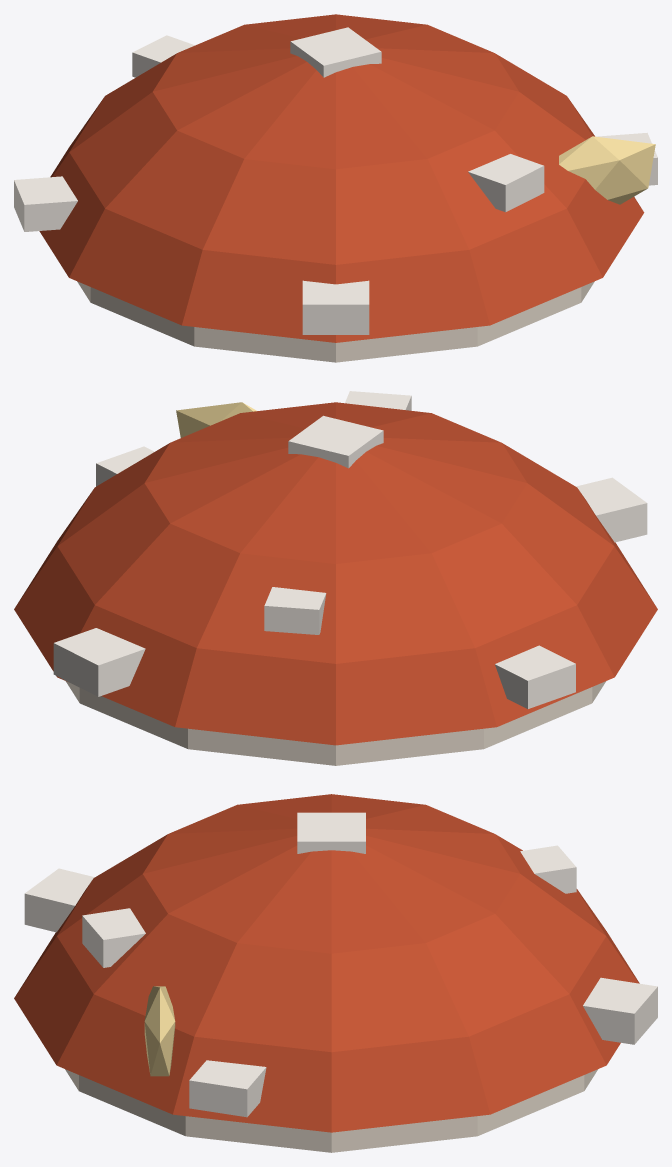
The model's file is CatCafe_Accessory_MushroomCap.glb.
The picture shows the model from 3 angles, top to bottom: view 1: azimuth 30°, elevation 25°; view 2: azimuth 150°, elevation 25°; view 3: azimuth 270°, elevation 25°; orthographic projection. The views are drawn at different scales.
Visible parts, largest first — view 1: CatCafe_Accessory_MushroomCap; view 2: CatCafe_Accessory_MushroomCap; view 3: CatCafe_Accessory_MushroomCap.
Boxes of the visible parts, left/top/right/bottom form: CatCafe_Accessory_MushroomCap: left=14, top=14, right=657, bottom=362; CatCafe_Accessory_MushroomCap: left=14, top=391, right=657, bottom=765; CatCafe_Accessory_MushroomCap: left=14, top=794, right=657, bottom=1152.
Size of the model in its own units: 0.7501 by 0.26 by 0.7502.
1 material, 1 textured.
